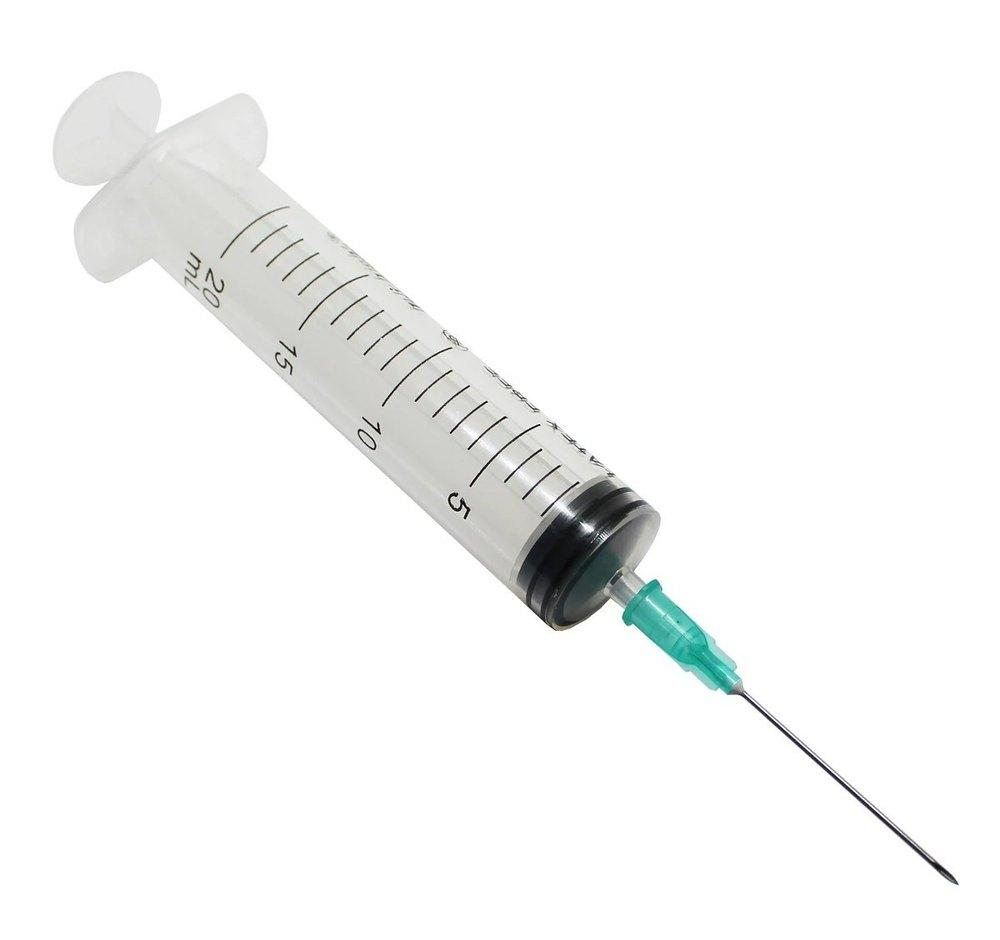Syringe: (54, 73, 954, 881)
